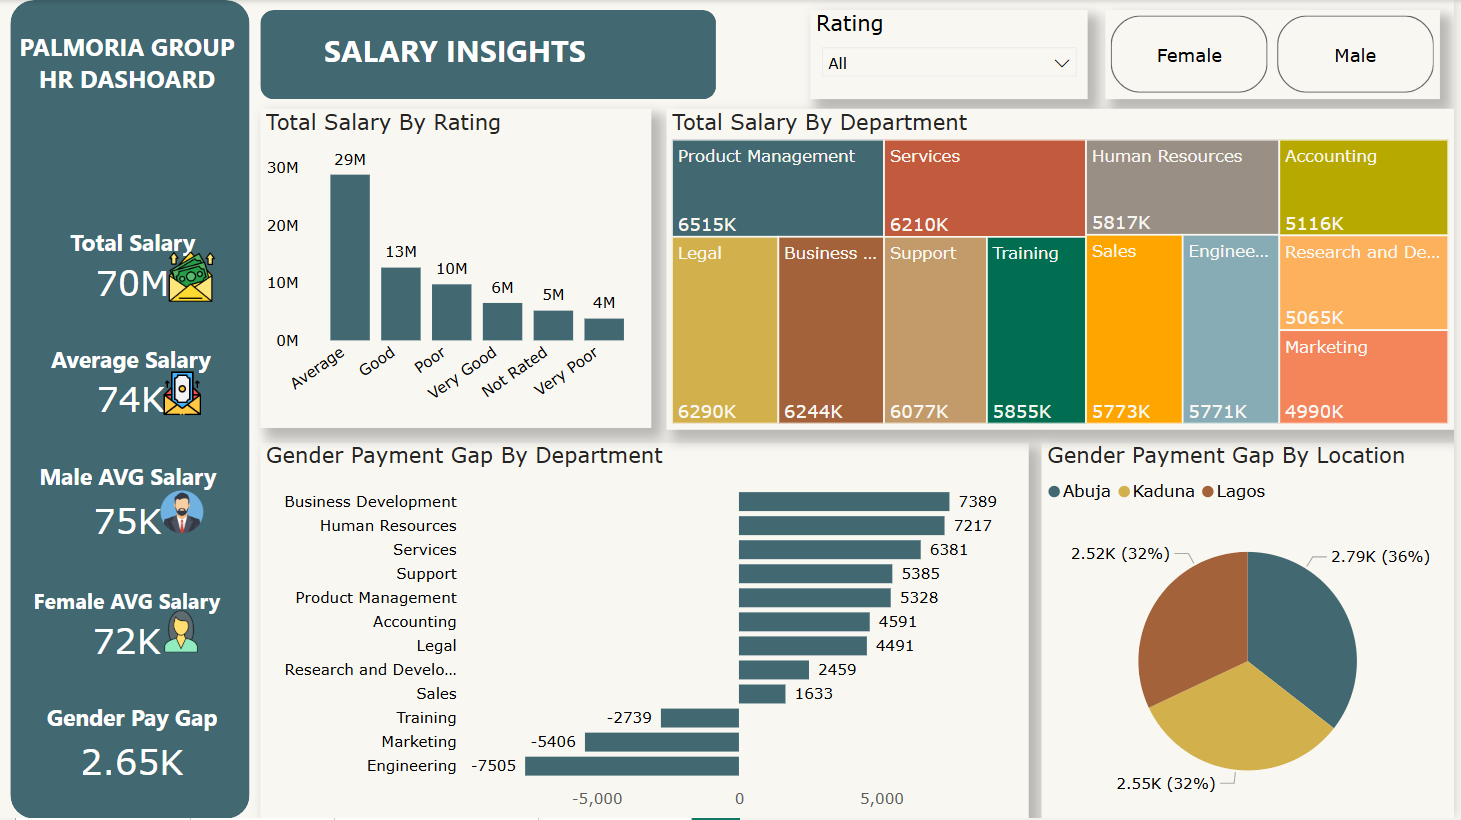

What the dashboard file says about the page in this screenshot:
{"tool":"powerbi","page":{"name":"Salary Insight","canvas":[1280,720],"ordinal":1},"visuals":[{"type":"shape","box":[9.5,0,210.7,720.2],"z":0},{"type":"clusteredBarChart","title":"Gender Payment Gap By Department","fields":{"Y":["Palmoria Group emp-data.Gender Pay Gap"],"Category":["Palmoria Group emp-data.Department"]},"box":[229.8,389.3,676.2,331],"z":1000},{"type":"pieChart","title":"Gender Payment Gap By Location","fields":{"Category":["Palmoria Group emp-data.Location"],"Y":["Palmoria Group emp-data.Gender Pay Gap"]},"box":[916.7,389.3,363.1,331],"z":2000},{"type":"card","title":"Average Salary","fields":{"Values":["Palmoria Group emp-data.Average Salary"]},"box":[21.9,302.4,188.1,71.4],"z":3000},{"type":"card","title":"Total Salary","fields":{"Values":["Sum(Palmoria Group emp-data.Salary)"]},"box":[25.5,198.8,184.5,73.8],"z":4000},{"type":"card","title":"Male AVG Salary","fields":{"Values":["Palmoria Group emp-data.Average Salary Male"]},"box":[19.5,404.2,186.9,81],"z":5000},{"type":"card","title":"Female AVG Salary","fields":{"Values":["Palmoria Group emp-data.Average Salary Female"]},"box":[21.9,515.2,181,71.4],"z":6000},{"type":"shape","box":[229.8,8.3,401.2,78.6],"z":7000},{"type":"textbox","box":[246.4,21.4,309.5,51.2],"z":8000},{"type":"card","title":"Gender Pay Gap","fields":{"Values":["Palmoria Group emp-data.Gender Pay Gap"]},"box":[24.3,616.7,185.7,81],"z":9000},{"type":"slicer","title":"Rating","fields":{"Values":["Palmoria Group emp-data.Rating"]},"box":[713.1,8.3,244,78.6],"z":10000},{"type":"advancedSlicerVisual","fields":{"Values":["Palmoria Group emp-data.Gender"]},"box":[972.6,8.3,294,78.6],"z":11000},{"type":"image","box":[134.5,426.2,53.6,47.6],"z":12000},{"type":"image","box":[125,532.1,70.2,46.4],"z":13000},{"type":"image","box":[139.3,216.7,60.7,53.6],"z":14000},{"type":"image","box":[126.2,320.2,70.2,52.4],"z":15000},{"type":"clusteredColumnChart","title":"Total Salary By Rating","fields":{"Category":["Palmoria Group emp-data.Rating"],"Y":["Sum(Palmoria Group emp-data.Salary)"]},"box":[229.8,95.2,344,281],"z":16000},{"type":"treemap","title":"Total Salary By Department","fields":{"Group":["Palmoria Group emp-data.Department"],"Values":["Sum(Palmoria Group emp-data.Salary)"]},"box":[586.9,95.2,692.9,282.1],"z":17000},{"type":"textbox","box":[7.1,21.4,211.9,84.5],"z":18000}]}

Visuals, with their boxes in screenshot pixels (x1, y1, x2, y2), scaled from the page's 1280x720 canvas onto the 1461x820 screenshot:
shape: locate(11, 0, 251, 819)
"Gender Payment Gap By Department" clusteredBarChart: locate(262, 443, 1034, 819)
"Gender Payment Gap By Location" pieChart: locate(1046, 443, 1460, 819)
"Average Salary" card: locate(25, 344, 240, 426)
"Total Salary" card: locate(29, 226, 240, 310)
"Male AVG Salary" card: locate(22, 460, 236, 553)
"Female AVG Salary" card: locate(25, 587, 232, 668)
shape: locate(262, 9, 720, 99)
textbox: locate(281, 24, 635, 83)
"Gender Pay Gap" card: locate(28, 702, 240, 795)
"Rating" slicer: locate(814, 9, 1092, 99)
advancedSlicerVisual - Palmoria Group emp-data.Gender: locate(1110, 9, 1446, 99)
image: locate(154, 485, 215, 540)
image: locate(143, 606, 223, 659)
image: locate(159, 247, 228, 308)
image: locate(144, 365, 224, 424)
"Total Salary By Rating" clusteredColumnChart: locate(262, 108, 655, 428)
"Total Salary By Department" treemap: locate(670, 108, 1460, 430)
textbox: locate(8, 24, 250, 121)
